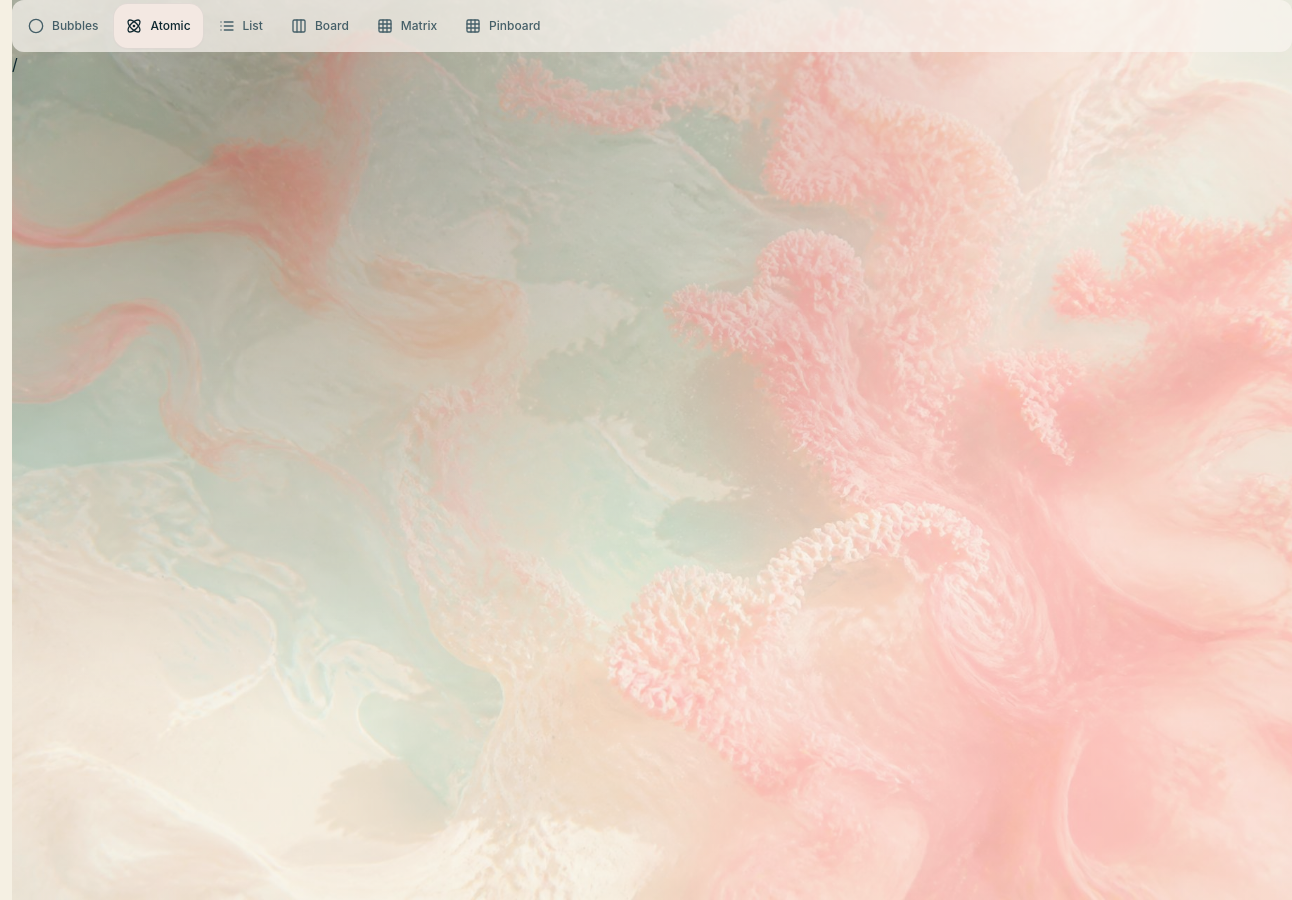
Canvas view navigation › keeps the canvas preference when opening another representation
Step 1. Click the button with aria-label "Pinboard view mode" → click(503, 26), box [453,4,552,48]
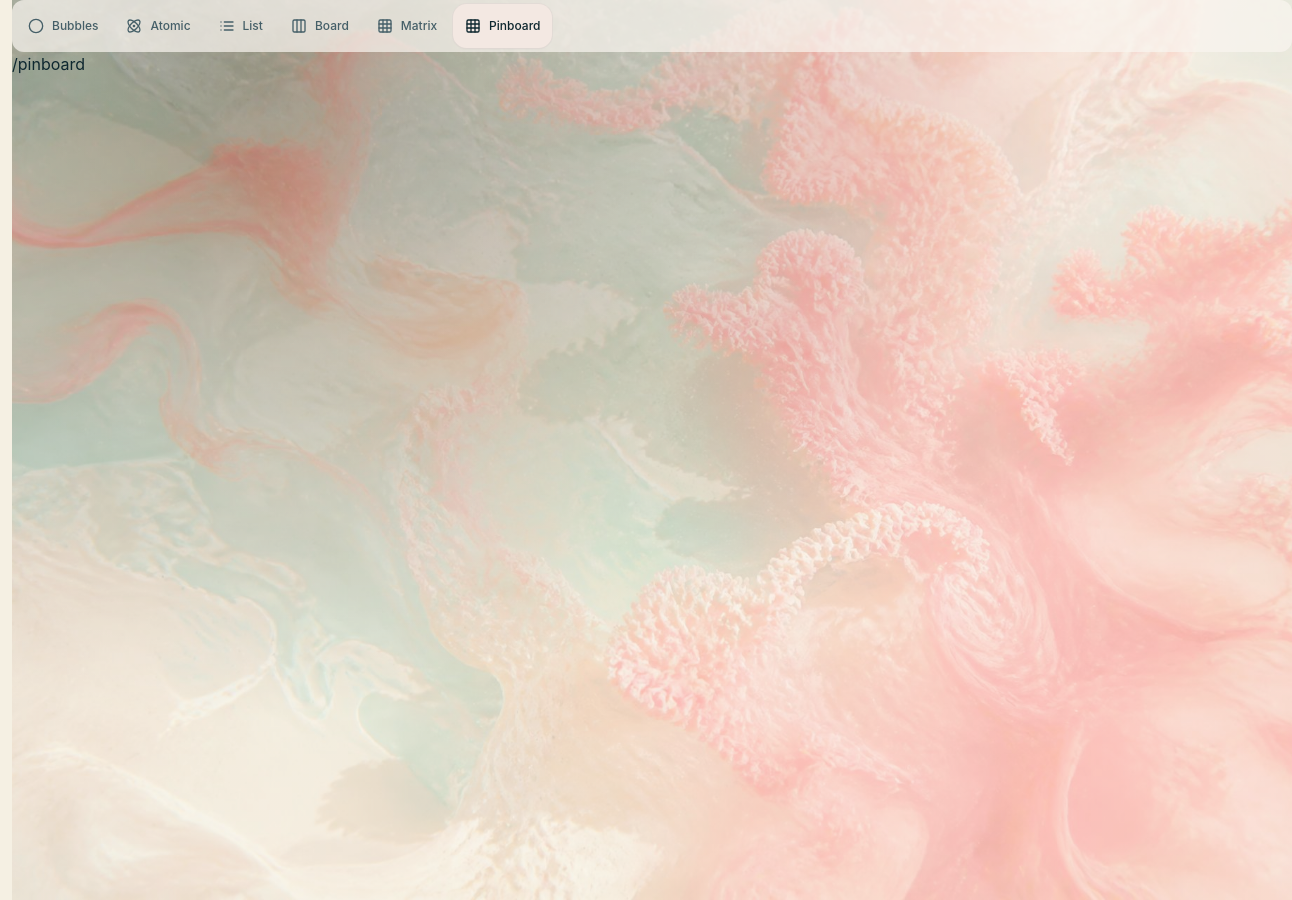
Now the text with test id "view-path" reads "/pinboard", box [12,54,85,74]
